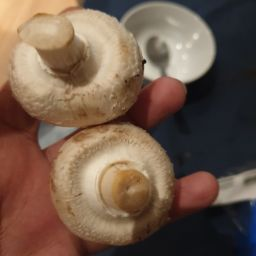Mushrooms: (40, 117, 193, 253), (9, 5, 153, 133)
